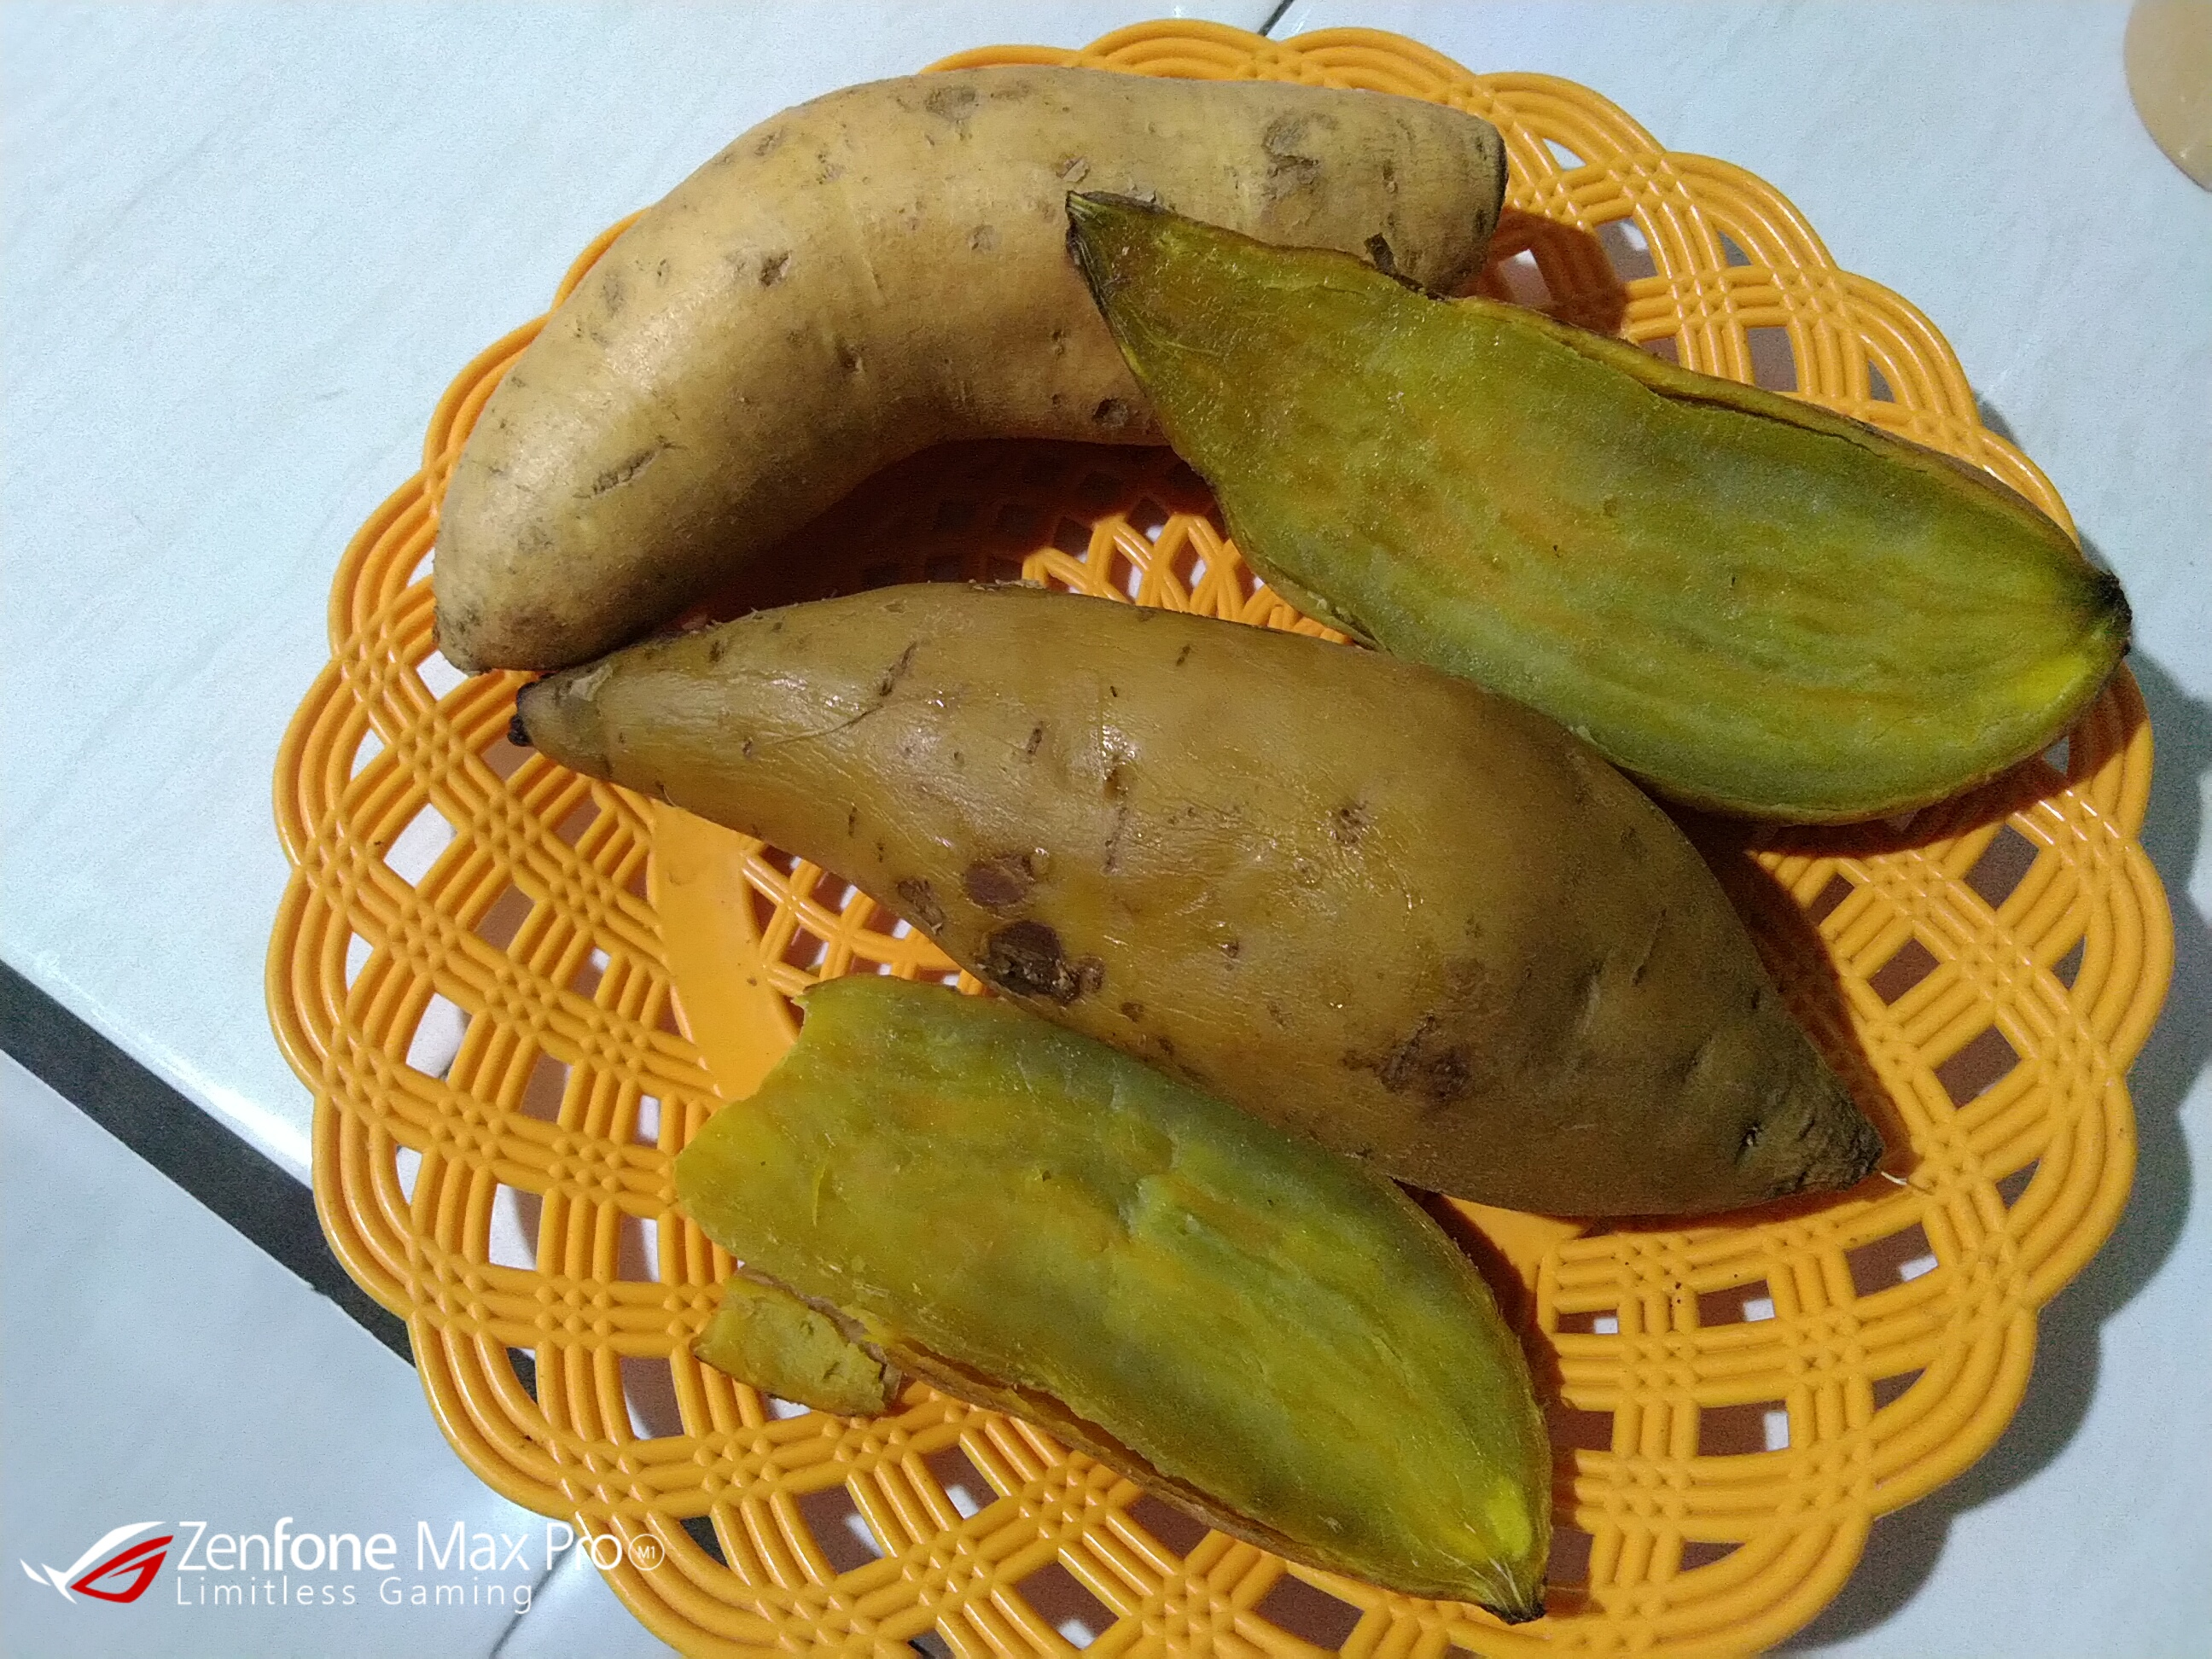ubi cilembu: (516, 573, 1925, 1234), (1059, 171, 2134, 816), (404, 82, 1515, 681), (637, 962, 1559, 1626)
